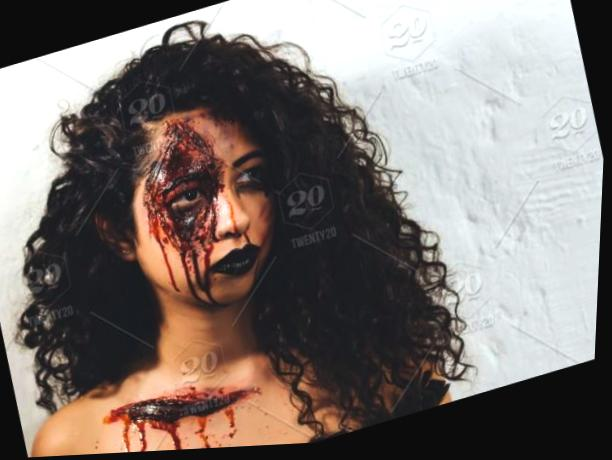Fire: (143, 119, 225, 307), (108, 391, 262, 454)
